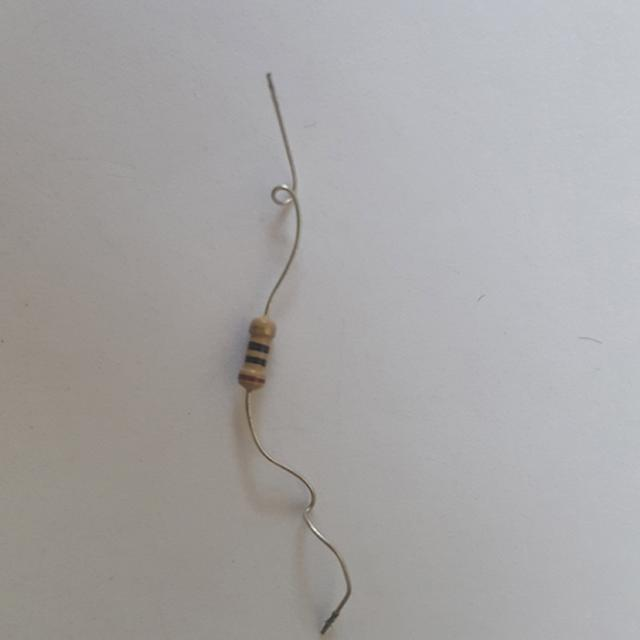black: (248, 341, 270, 351), (244, 356, 267, 365)
brown: (238, 374, 265, 383)
gold: (251, 327, 273, 336)
resistor: (222, 302, 298, 405)
